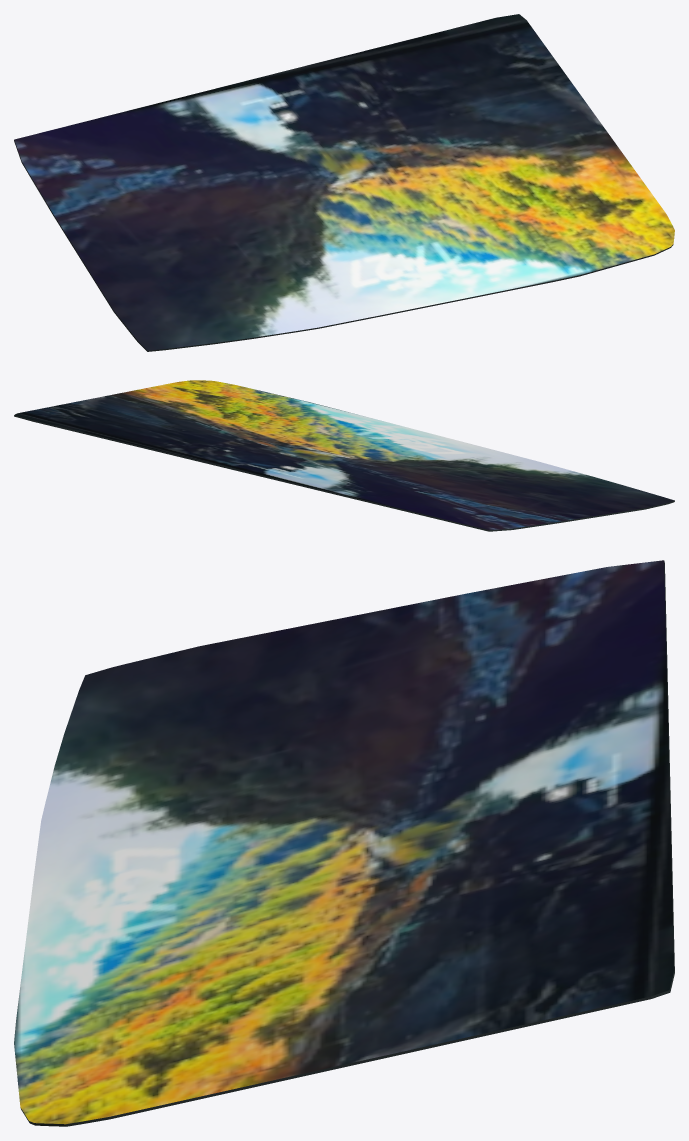
The model's file is screen_tex.obj.
The picture shows the model from 3 angles, top to bottom: view 1: azimuth 30°, elevation 25°; view 2: azimuth 150°, elevation 25°; view 3: azimuth 270°, elevation 25°; orthographic projection. The views are drawn at different scales.
Size of the model in its own units: 0.3039 by 0.0507 by 0.1838.
1 material, 1 textured.
